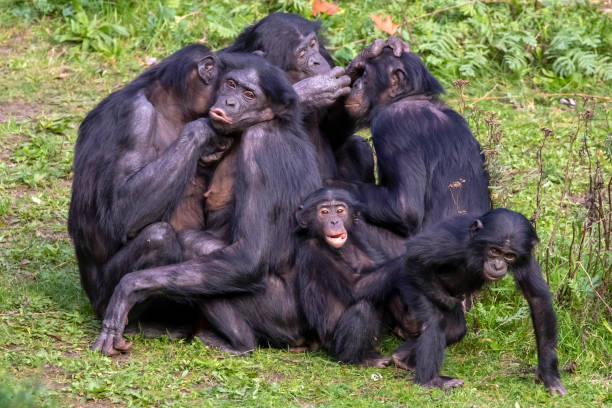chimpanzee: (203, 49, 302, 149), (458, 192, 539, 293), (284, 179, 369, 269)
